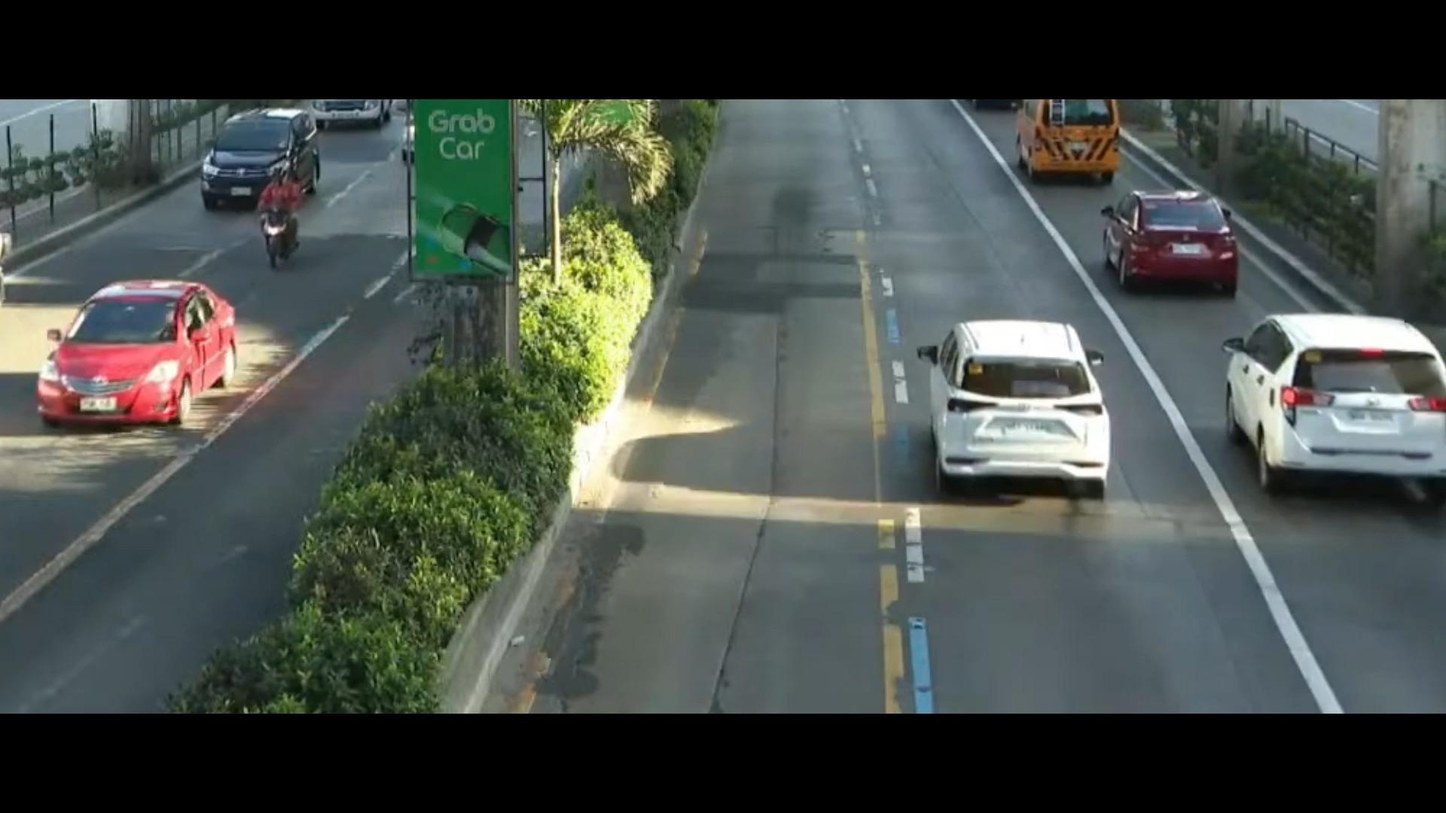Motorcycle: (256, 154, 305, 285)
SUV: (900, 292, 1153, 518), (1220, 285, 1441, 508), (210, 104, 332, 206)
Sedan: (0, 271, 258, 473), (1081, 168, 1279, 324)
Van: (998, 95, 1138, 194)
